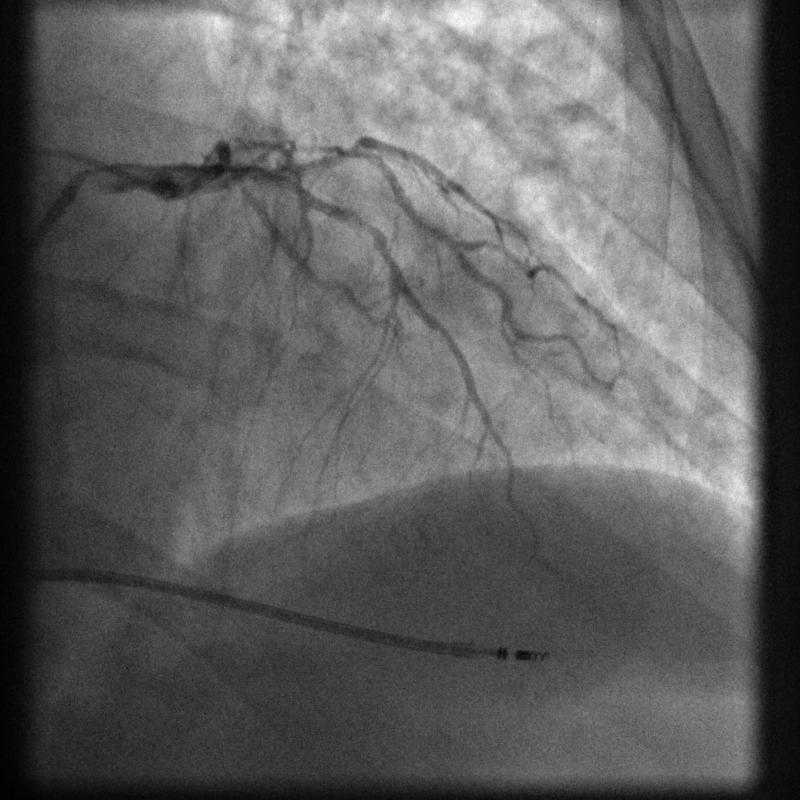Stenosis: (343, 209, 384, 240)
